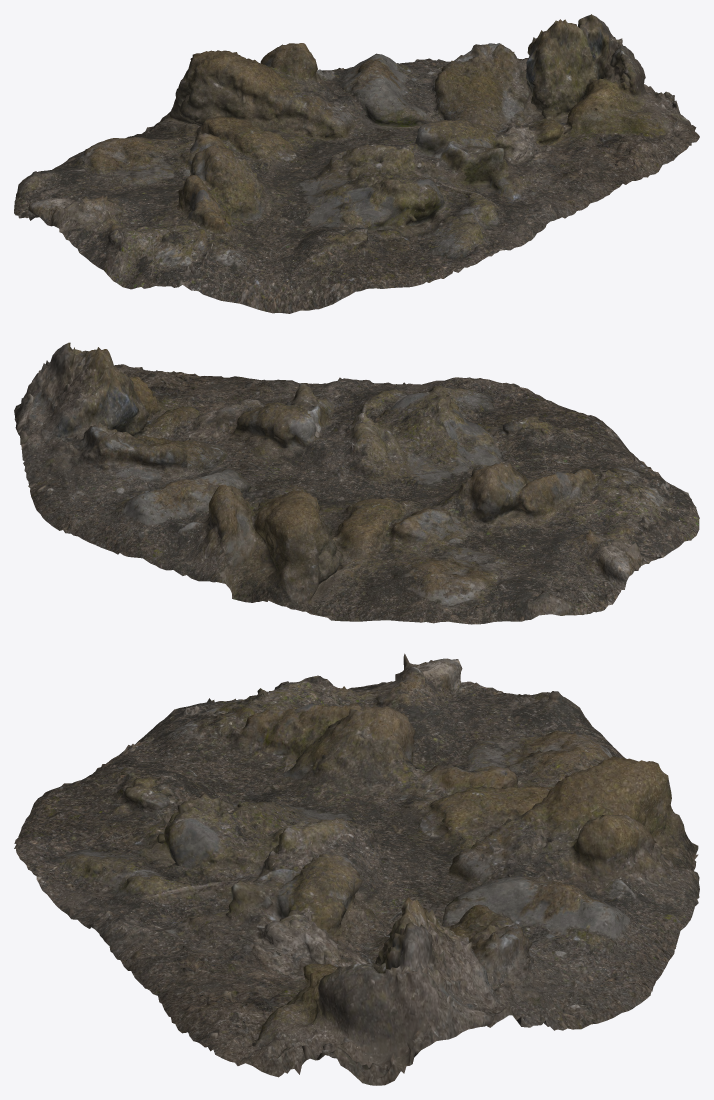
Rendered from PX_Mossy_Rock_10_LOD0.fbx.
3 renders of one model, top to bottom at view 1: azimuth 30°, elevation 25°; view 2: azimuth 150°, elevation 25°; view 3: azimuth 270°, elevation 25°, orthographic. The views are drawn at different scales.
Parts seen in each view (by area): view 1: PX_Mossy_Rock_10_LOD0; view 2: PX_Mossy_Rock_10_LOD0; view 3: PX_Mossy_Rock_10_LOD0.
Part boxes in pixels (x1,y1,x2,y2): PX_Mossy_Rock_10_LOD0: (14, 14, 699, 313); PX_Mossy_Rock_10_LOD0: (14, 342, 699, 624); PX_Mossy_Rock_10_LOD0: (14, 653, 699, 1085).
Bounding box in the file's own units: 236 × 40.43 × 171.
